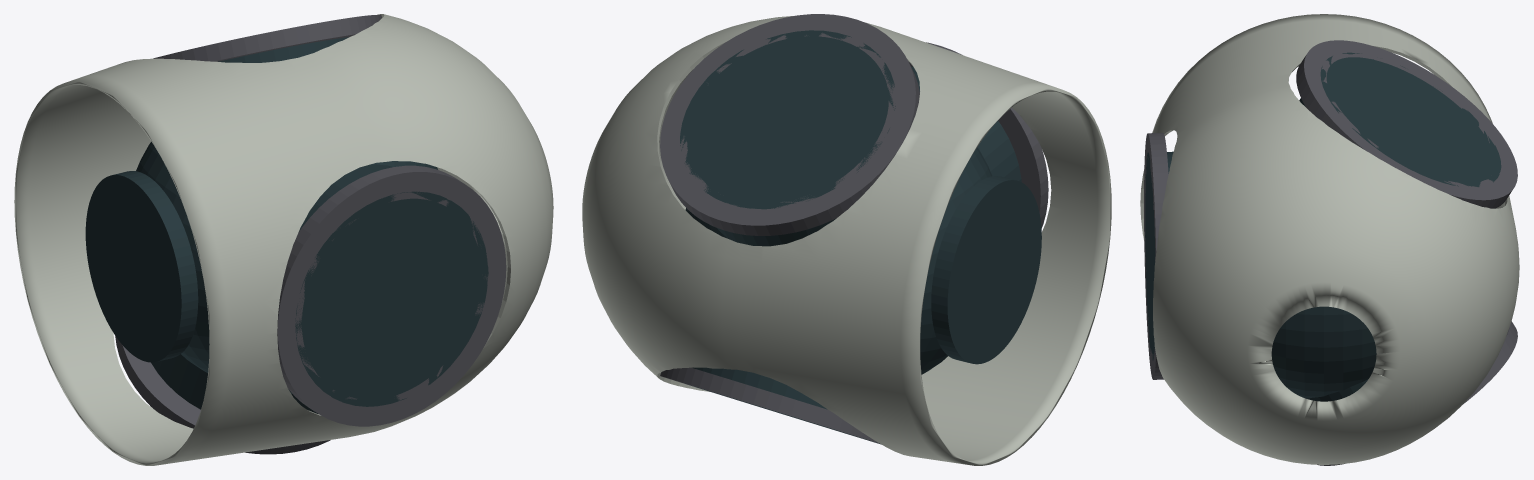
File: hub.obj
3 renders of one model, left to right at view 1: azimuth 30°, elevation 25°; view 2: azimuth 150°, elevation 25°; view 3: azimuth 270°, elevation 25°, orthographic. The views are drawn at different scales.
Parts seen in each view (by area): view 1: hub; view 2: hub; view 3: hub.
Boxes of the visible parts, x1,y1,x2,y2 form: hub: [14, 14, 553, 465]; hub: [582, 14, 1111, 465]; hub: [1140, 14, 1519, 465].
Size of the model in its own units: 4.86 by 4.89 by 4.36.
